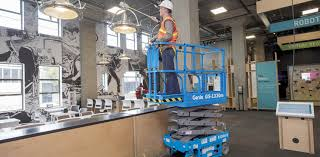Scissor Lift: (145, 40, 231, 157)
